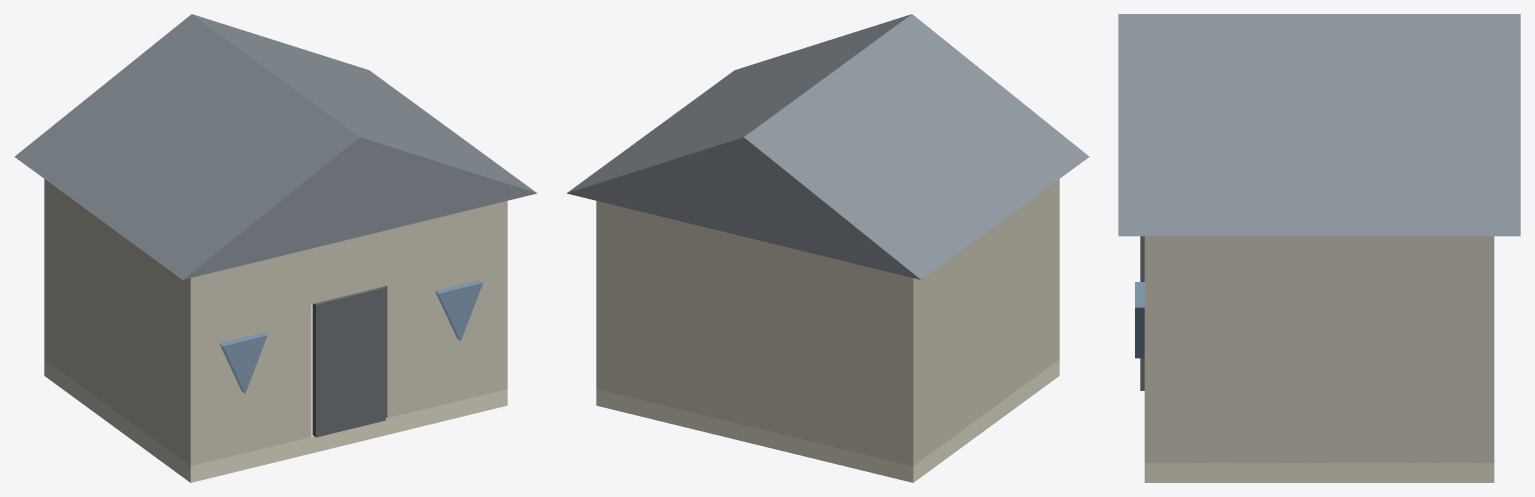
File: armoury.glb
The picture shows the model from 3 angles, left to right: view 1: azimuth 30°, elevation 25°; view 2: azimuth 150°, elevation 25°; view 3: azimuth 270°, elevation 25°; orthographic projection. The views are drawn at different scales.
Visible parts, largest first — view 1: armoury; view 2: armoury; view 3: armoury.
Boxes of the visible parts, box(x1,y1,x2,y2) form: armoury: box(14, 14, 537, 482); armoury: box(566, 14, 1089, 482); armoury: box(1118, 14, 1520, 482).
Size of the model in its own units: 5.6 by 4.75 by 4.6.
